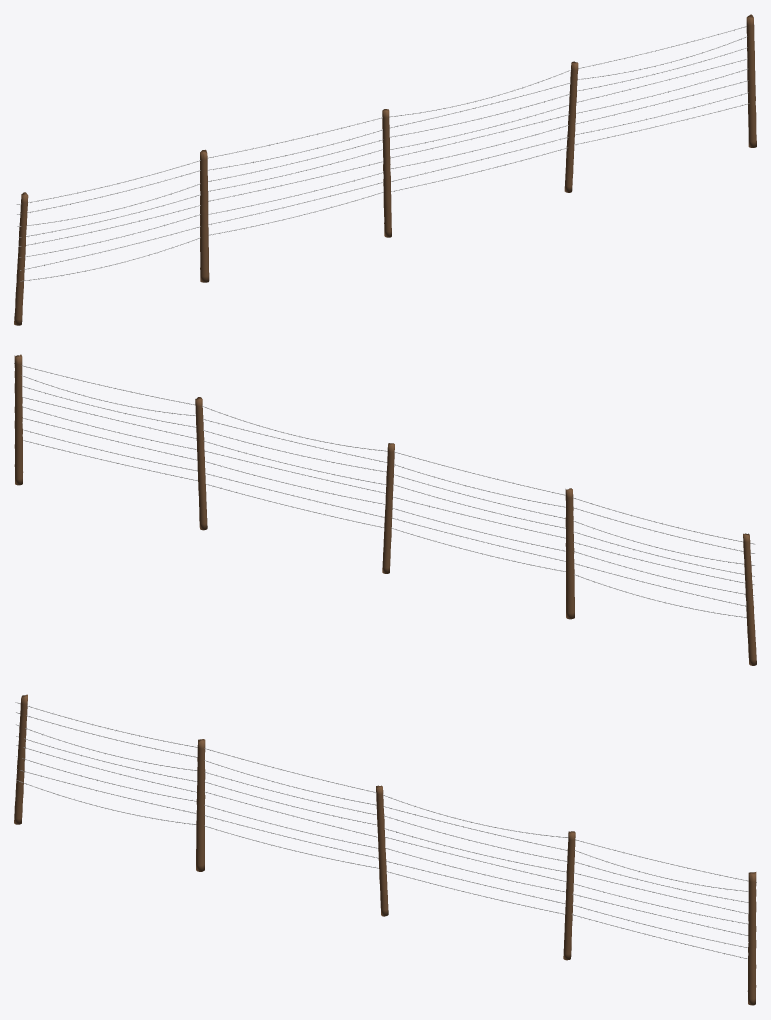
File: cerca finca.fbx
3 renders of one model, top to bottom at view 1: azimuth 30°, elevation 25°; view 2: azimuth 150°, elevation 25°; view 3: azimuth 330°, elevation 25°, orthographic.
Visible parts, largest first — view 1: Alambres, Poste_2, Poste_5, Poste_1, Poste_4, Poste_3; view 2: Alambres, Poste_2, Poste_5, Poste_4, Poste_1, Poste_3; view 3: Alambres, Poste_2, Poste_5, Poste_1, Poste_4, Poste_3.
Part boxes in pixels (x1,y1,x2,y2): Alambres: (16, 24, 754, 281); Poste_2: (200, 149, 209, 282); Poste_5: (746, 14, 756, 147); Poste_1: (14, 192, 28, 325); Poste_4: (564, 61, 578, 192); Poste_3: (382, 109, 391, 237); Alambres: (14, 363, 755, 617); Poste_2: (565, 488, 574, 619); Poste_5: (14, 354, 23, 485); Poste_4: (195, 397, 207, 530); Poste_1: (743, 533, 756, 665); Poste_3: (382, 443, 394, 573); Alambres: (15, 702, 756, 958); Poste_2: (196, 739, 205, 871); Poste_5: (747, 872, 756, 1005); Poste_1: (14, 694, 27, 824); Poste_4: (563, 831, 575, 960); Poste_3: (376, 785, 388, 916).
Size of the model in its own units: 1214 by 204 by 21.09.
